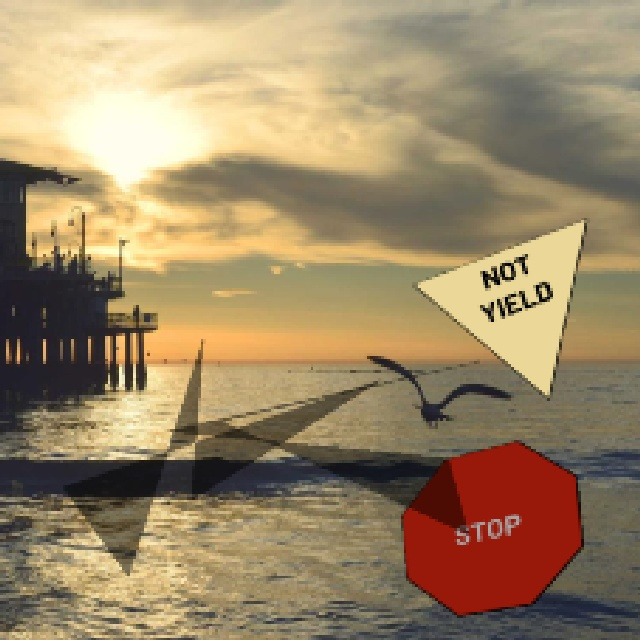NOT_YIELD: (410, 215, 586, 398)
STOP: (399, 438, 582, 615)
